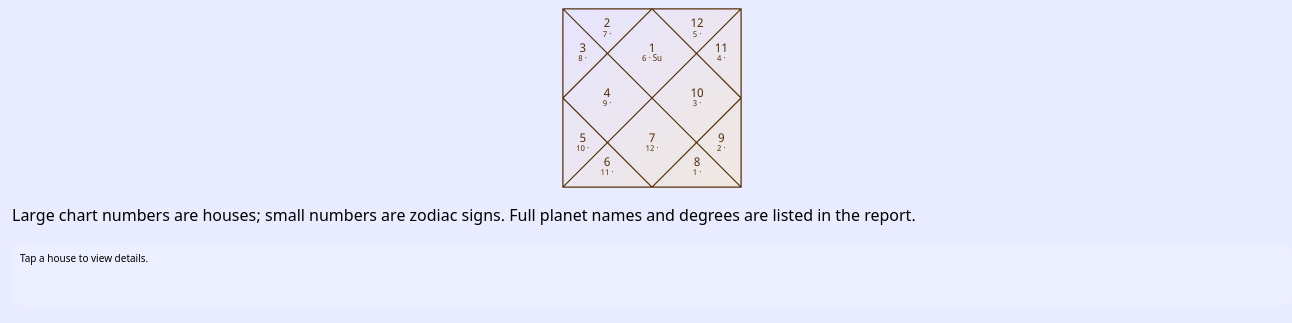
Test: displays a known direct-moving body without a retrograde symbol
Click the button with aria-label "House 1" at point(652, 53), box [635, 36, 669, 70]
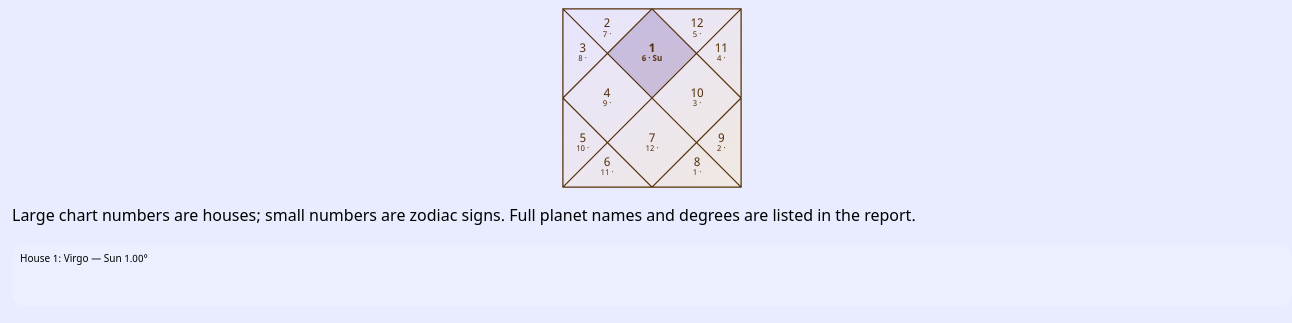
expect the text "House 1: Virgo — Sun 1.00°" does not show "℞": met, box [12, 244, 1291, 306]
expect the text "House 1: Virgo — Sun 1.00°" is shown: met, box [12, 244, 1291, 306]
